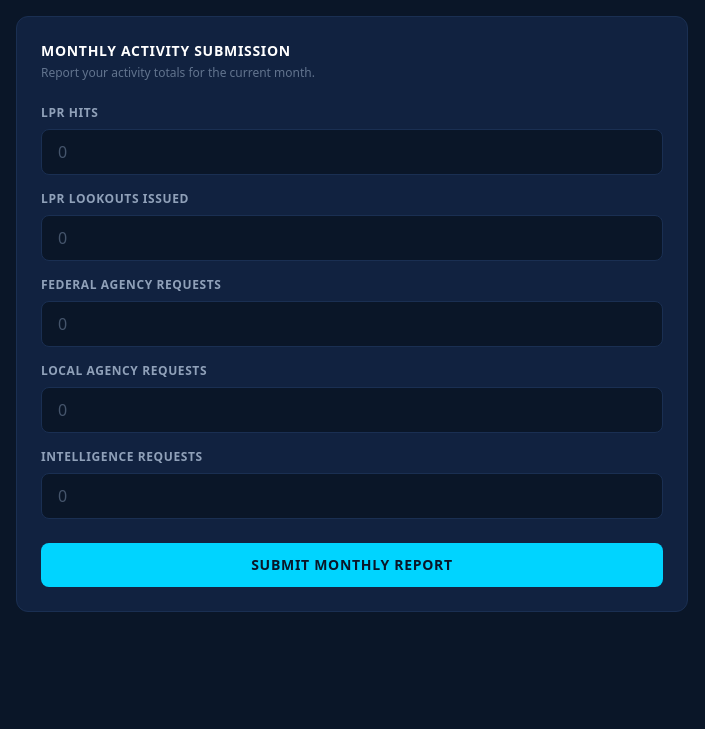
Test case: AnalystDashboard monthly submission › shows required errors when submitting an empty form
Expected: the number field labelled "LPR Hits" is shown, [41,129,663,175]
Click the button "Submit Monthly Report": {"x": 352, "y": 565} [41,543,663,587]
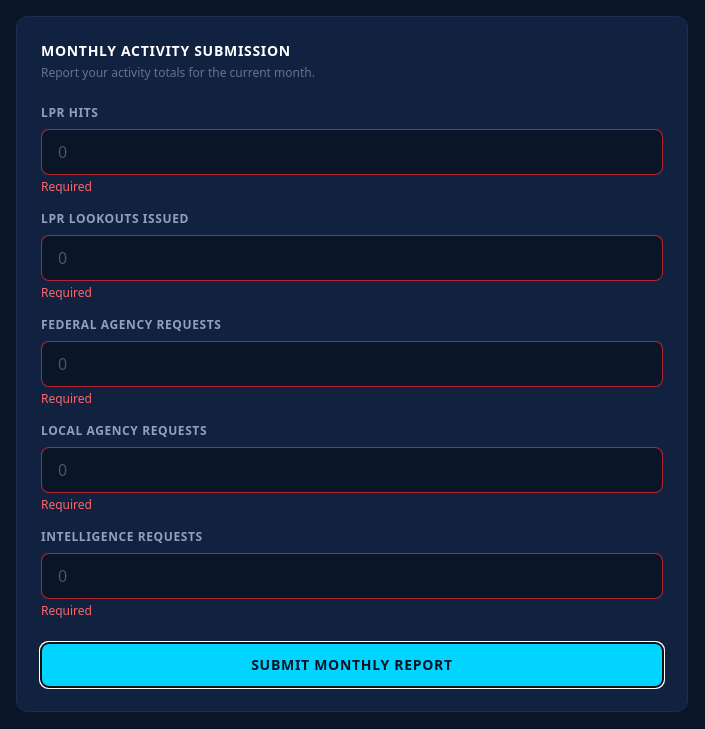
Now the text "Required" is shown 5 times, box [41,178,92,195]; [41,284,92,301]; [41,390,92,407]; [41,496,92,513]; [41,602,92,619]
